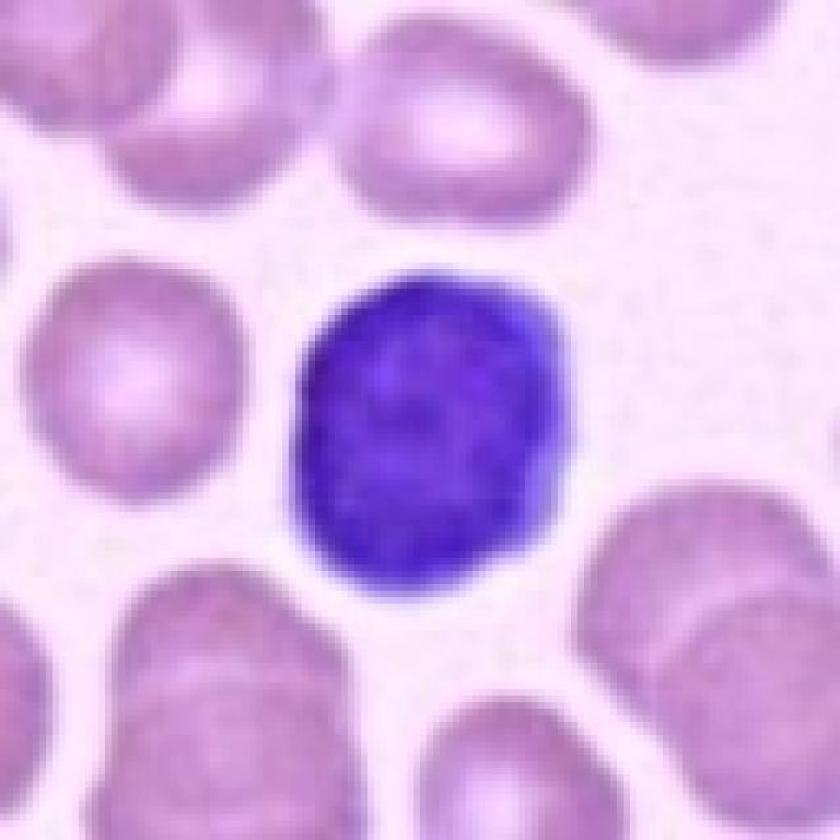lymphocyte: (285, 262, 583, 605)
